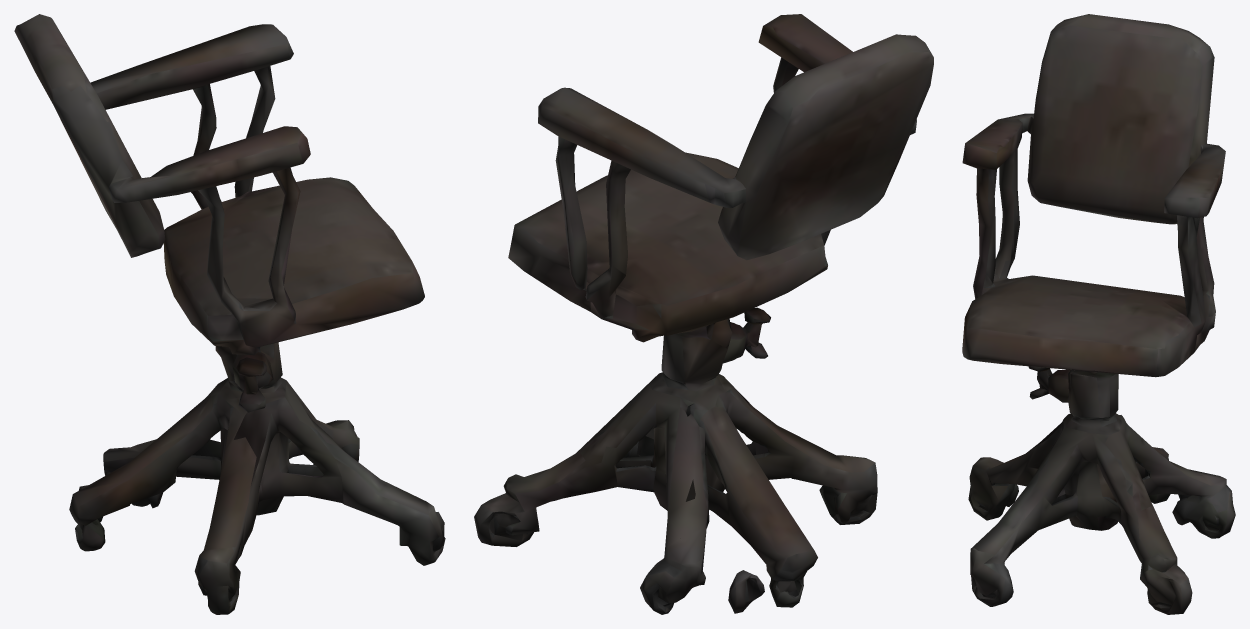
Rendered from sturdy-iron-examination-chair-v001.glb.
3 renders of one model, left to right at view 1: azimuth 30°, elevation 25°; view 2: azimuth 150°, elevation 25°; view 3: azimuth 270°, elevation 25°, orthographic. The views are drawn at different scales.
Visible parts, largest first — view 1: sturdy-iron-examination-chair; view 2: sturdy-iron-examination-chair; view 3: sturdy-iron-examination-chair.
Boxes of the visible parts, x1,y1,x2,y2 form: sturdy-iron-examination-chair: [14, 14, 445, 614]; sturdy-iron-examination-chair: [474, 14, 933, 614]; sturdy-iron-examination-chair: [962, 14, 1235, 614].
Size of the model in its own units: 0.9622 by 1.32 by 0.7097.
1 material, 1 textured.
